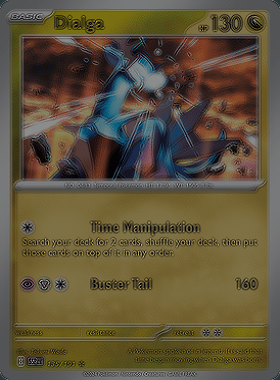Dialga: (0, 0, 280, 380)
